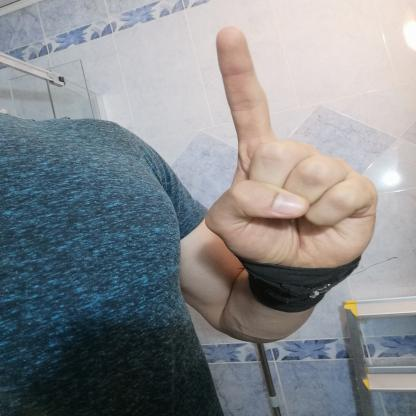BAA: (195, 16, 391, 281)
